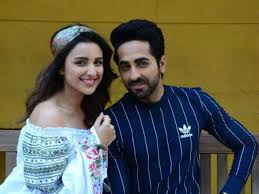Bad: (1, 18, 259, 194)
